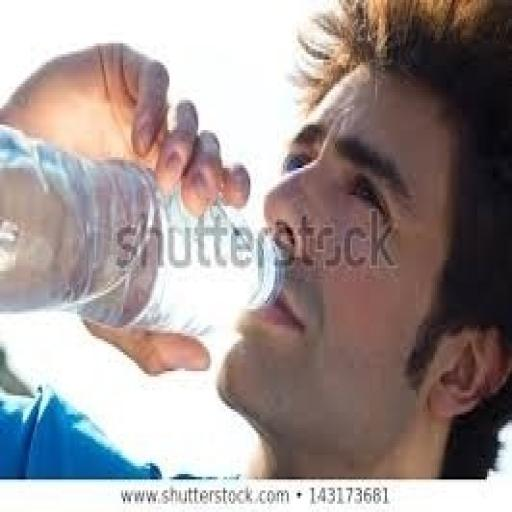drinking: (0, 116, 279, 336)
